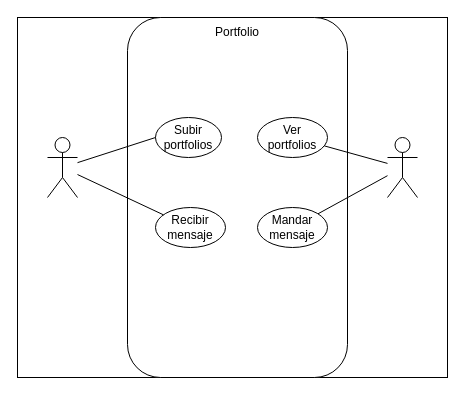
Some shapes in this 465 by 395 pixel diagram are drawn without their labels. The shapes that lost their labels are listed below. From the top down, each one's centre as x and y in pixels, then its label:
At (x=62, y=167): "Programadores".
At (x=402, y=167): "Clientes".
